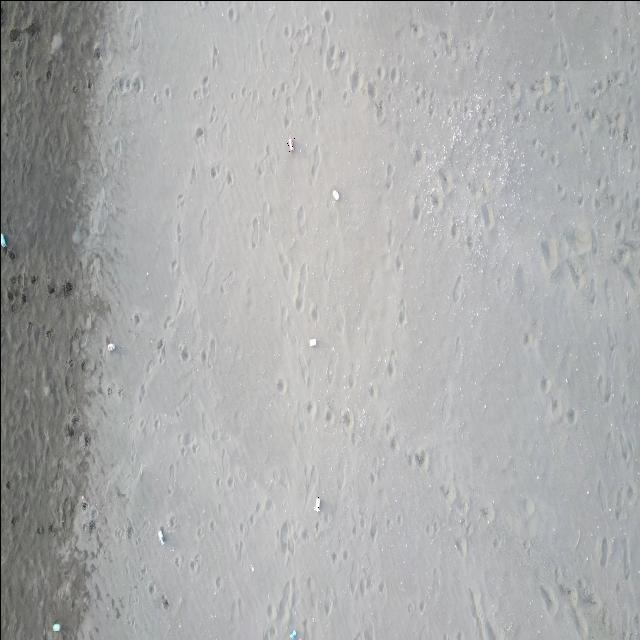Garbage: (0, 232, 7, 247), (313, 496, 320, 511), (51, 622, 60, 632), (287, 136, 293, 151), (158, 527, 163, 544), (332, 188, 339, 200), (308, 337, 315, 346), (289, 631, 296, 639), (107, 343, 114, 351)
